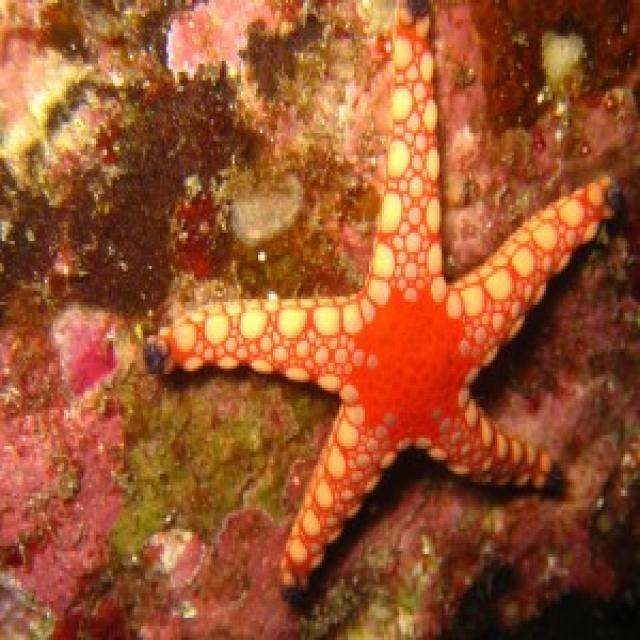Starfish: (133, 0, 617, 583)
